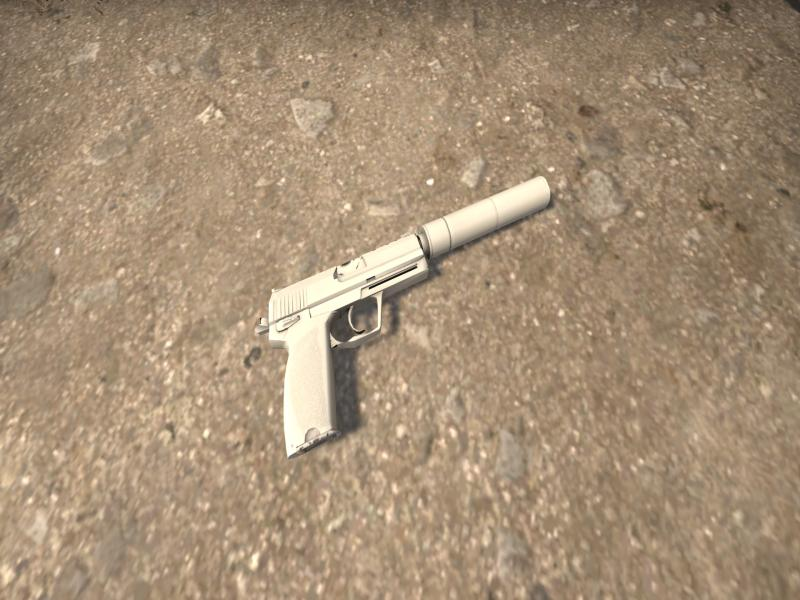USP: (257, 177, 550, 457)
